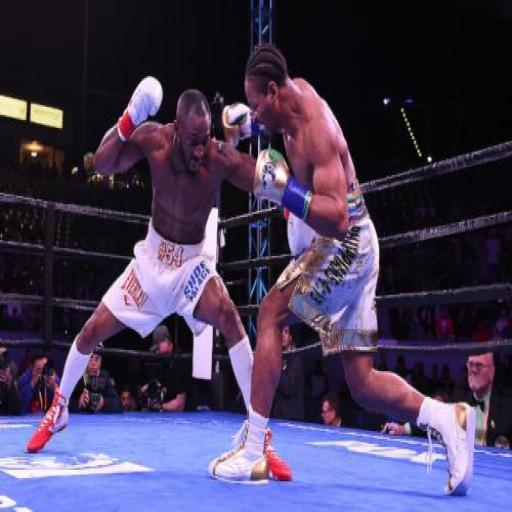boxing: (206, 40, 476, 496), (25, 73, 297, 476)
